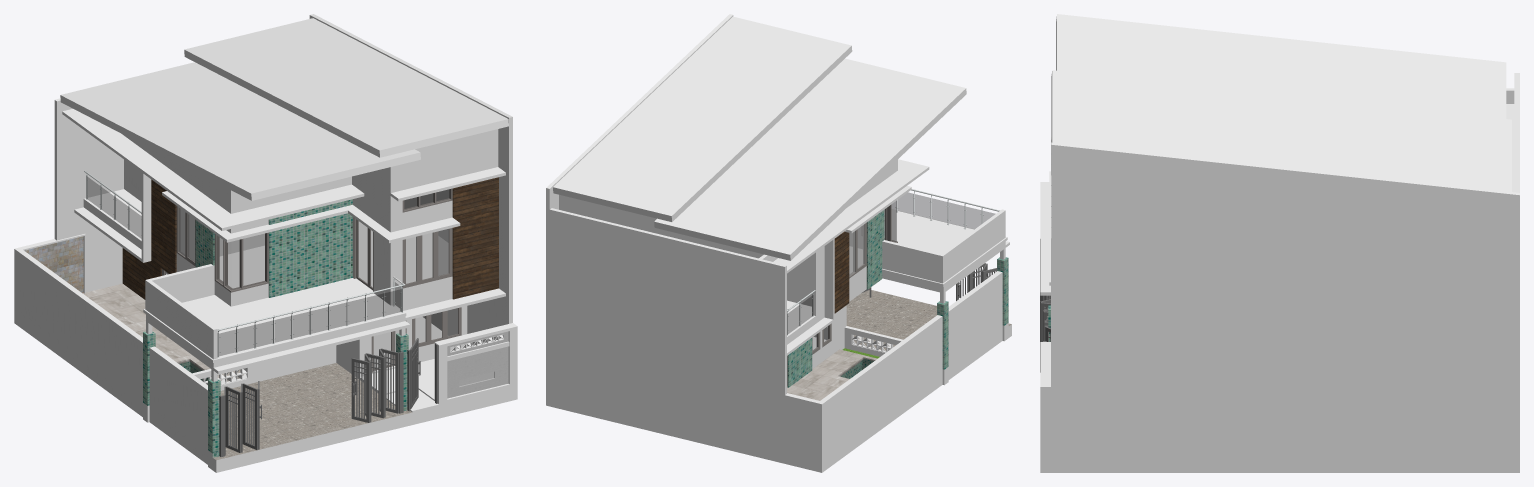
The model's file is rumah.glb.
3 renders of one model, left to right at view 1: azimuth 30°, elevation 25°; view 2: azimuth 150°, elevation 25°; view 3: azimuth 270°, elevation 25°, orthographic. The views are drawn at different scales.
Visible parts, largest first — view 1: Material2 (×8), Material3 (×5); view 2: Material2 (×7), Material3 (×4); view 3: Material2 (×2).
Boxes of the visible parts, x1,y1,x2,y2 form: Material2 (×8): (14,14,517,472); Material3 (×5): (24,177,498,460); Material2 (×7): (546,14,1011,472); Material3 (×4): (787,210,1011,400); Material2 (×2): (1040,14,1519,472).
Bounding box in the file's own units: 442 × 391 × 518.
19 materials, 9 textured.
